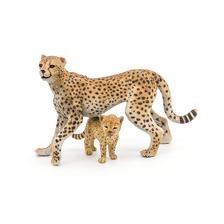Cheetah: (33, 55, 198, 169), (72, 113, 125, 163)
